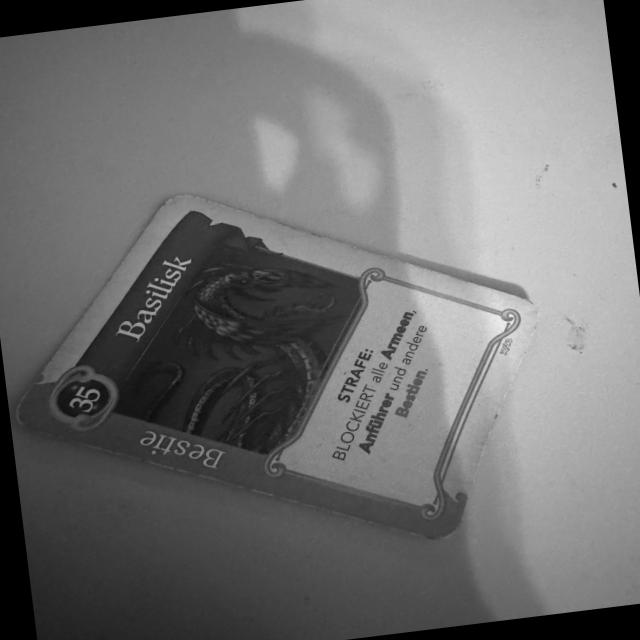Basilisk: (10, 191, 548, 544)
